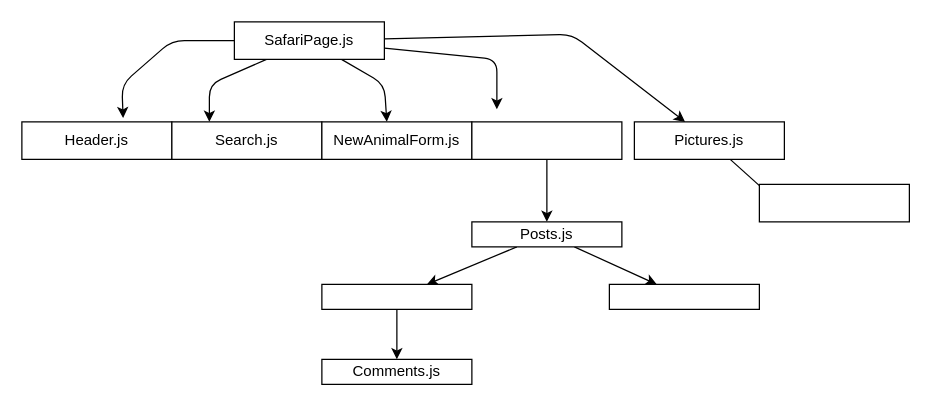
The diagram is 931 pixels wide and 406 high, and some of its shapes have lost their labels. Each missing label, with the centre of its shape:
"CommentSection.js" belongs at point (396, 296).
"Images.js" belongs at point (833, 202).
"NewComment.js" belongs at point (683, 296).
"PostsLists.js" belongs at point (546, 140).
